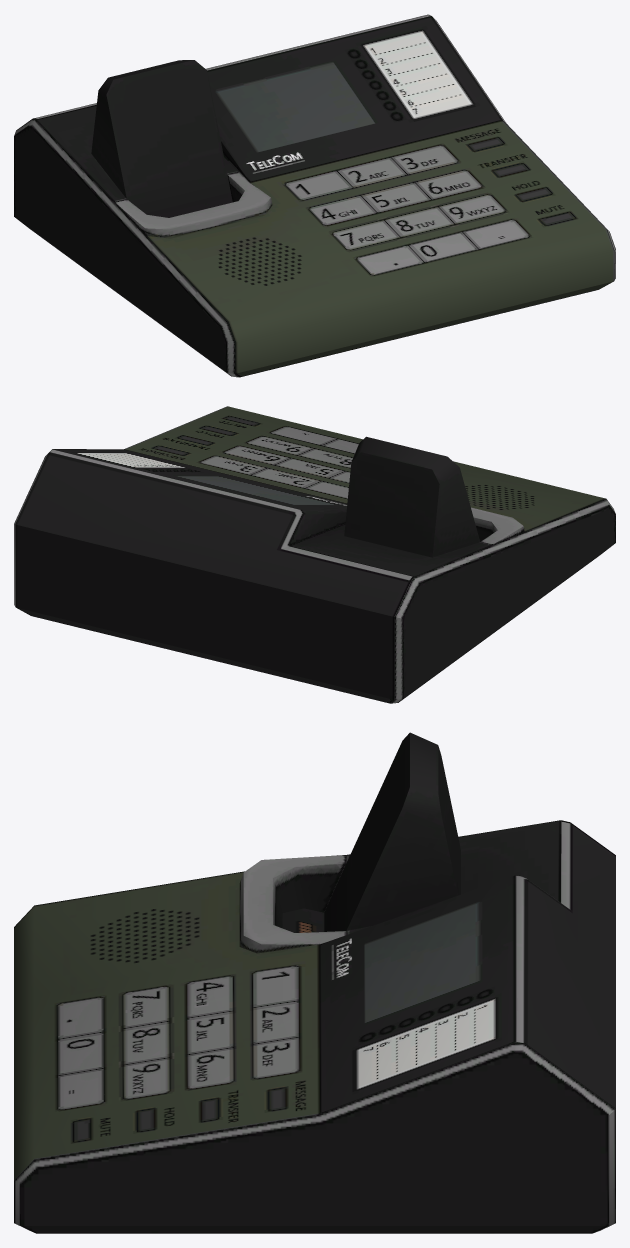
File: office_phone_base.dae
The picture shows the model from 3 angles, top to bottom: view 1: azimuth 30°, elevation 25°; view 2: azimuth 150°, elevation 25°; view 3: azimuth 270°, elevation 25°; orthographic projection. The views are drawn at different scales.
Parts seen in each view (by area): view 1: pCube7; view 2: pCube7; view 3: pCube7.
Boxes of the visible parts, box(x1,y1,x2,y2) form: pCube7: box(14, 14, 615, 377); pCube7: box(14, 406, 615, 703); pCube7: box(14, 732, 615, 1233).
Bounding box in the file's own units: 0.2511 × 0.1195 × 0.2455.
